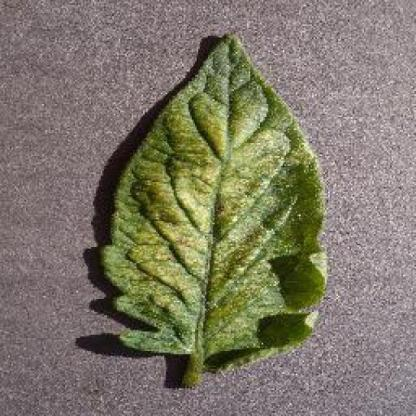Tomato_Spider_Mites: (103, 33, 326, 355)
